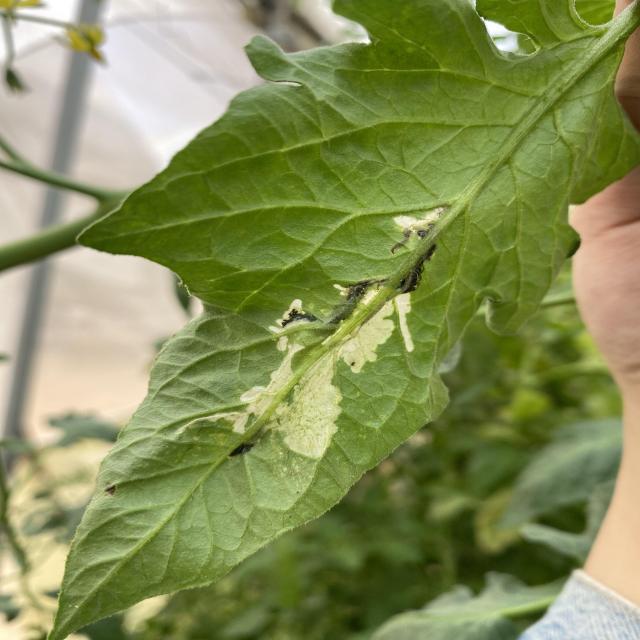Tuta absoluta: (259, 278, 410, 466), (207, 339, 320, 445), (394, 205, 453, 242), (392, 293, 415, 353)
